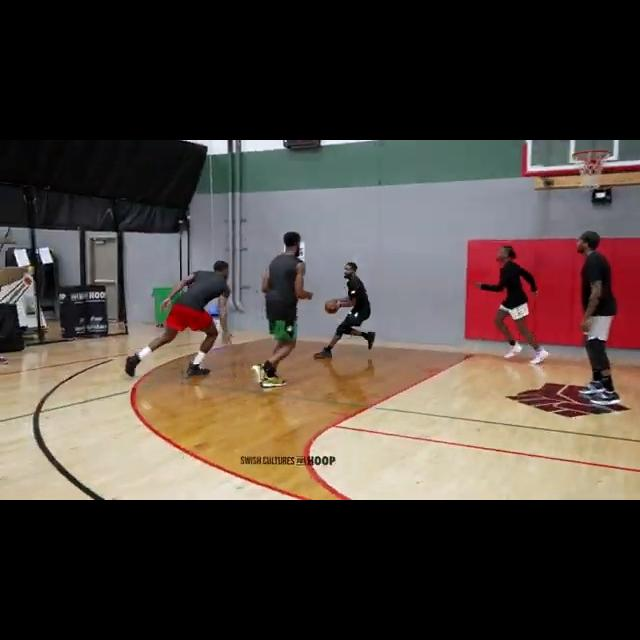basketball: (325, 297, 341, 314)
hoop: (574, 151, 611, 193)
person: (124, 259, 235, 380), (566, 227, 627, 408), (250, 229, 314, 389), (476, 241, 555, 369), (312, 261, 376, 360)
